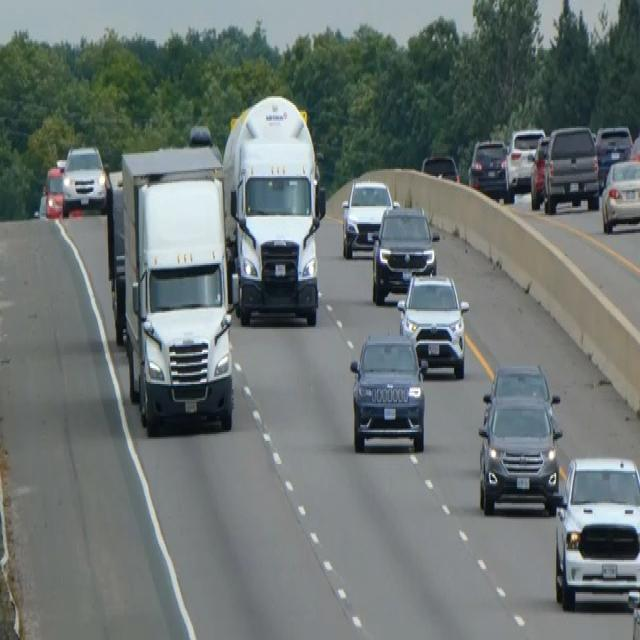car: (553, 454, 639, 612), (477, 391, 562, 514), (349, 331, 425, 453), (396, 270, 469, 379), (370, 203, 438, 304), (543, 124, 599, 213), (341, 178, 394, 258), (483, 361, 555, 409), (62, 144, 107, 213), (600, 156, 639, 233), (468, 137, 511, 201), (506, 126, 545, 194), (594, 122, 632, 186), (529, 133, 550, 208), (420, 153, 459, 183), (43, 164, 64, 218), (629, 130, 639, 164)
lorry: (119, 137, 235, 434), (224, 93, 326, 327)
truck: (106, 169, 126, 345)
